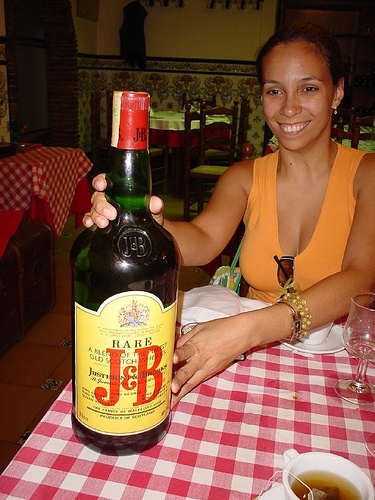head: (259, 29, 348, 155)
person: (149, 23, 371, 399)
